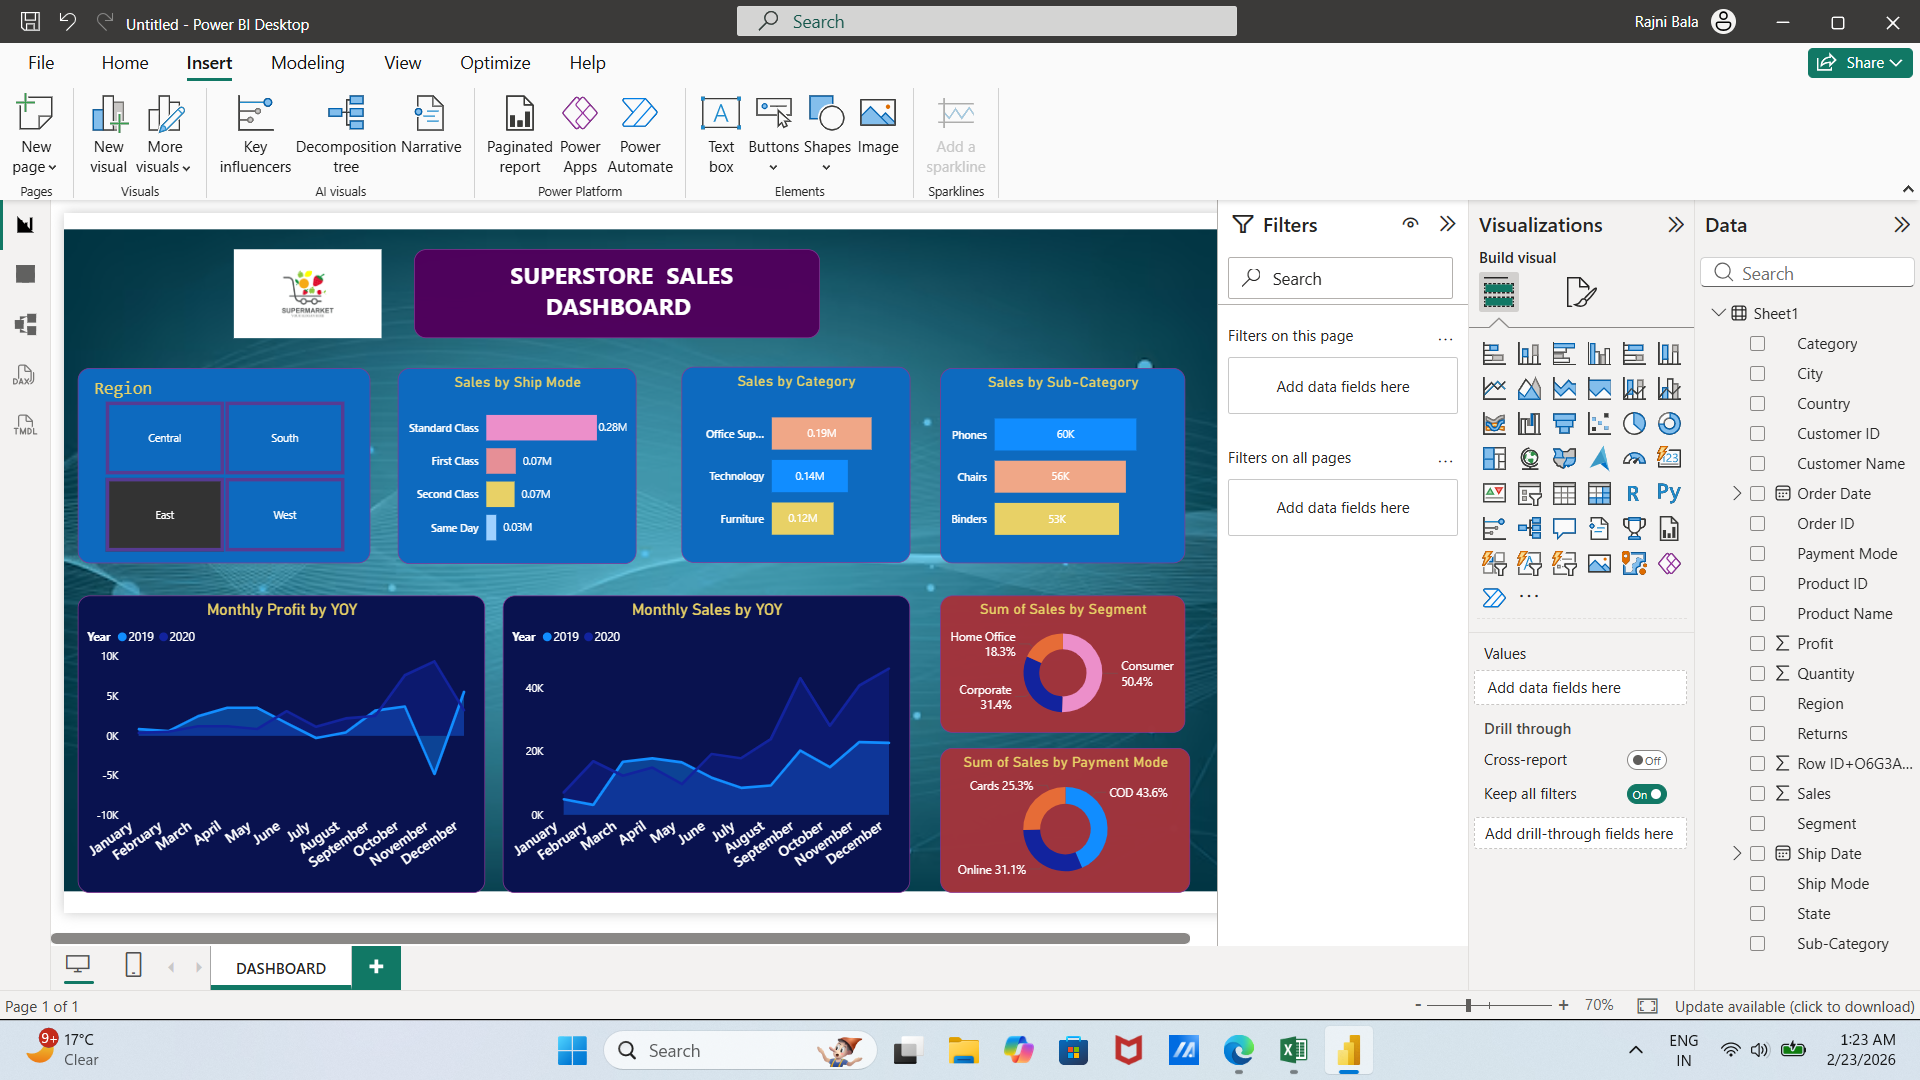

Layout of this report page (visuals, bound fields, positions):
{"tool":"powerbi","page":{"name":"DASHBOARD","canvas":[1350,800],"ordinal":0},"visuals":[{"type":"clusteredBarChart","fields":{"Category":["Sheet1.Category"],"Y":["Sum(Sheet1.Sales)"]},"box":[721.7,175,261.7,225],"z":0},{"type":"clusteredBarChart","fields":{"Category":["Sheet1.Sub-Category"],"Y":["Sum(Sheet1.Sales)"]},"box":[1023.3,178.3,280,223.3],"z":1000},{"type":"clusteredBarChart","fields":{"Category":["Sheet1.Ship Mode"],"Y":["Sum(Sheet1.Sales)"]},"box":[401.7,175,273.3,225],"z":2000},{"type":"areaChart","title":"Monthly Sales by YOY","fields":{"Y":["Sum(Sheet1.Sales)"],"Series":["Sheet1.Order Date.Variation.Date Hierarchy.Year"],"Category":["Sheet1.Order Date.Variation.Date Hierarchy.Month","Sheet1.Order Date.Variation.Date Hierarchy.Day"]},"box":[518.3,436.7,465,340],"z":3000},{"type":"areaChart","title":"Monthly Profit by YOY","fields":{"Series":["Sheet1.Order Date.Variation.Date Hierarchy.Year"],"Category":["Sheet1.Order Date.Variation.Date Hierarchy.Month","Sheet1.Order Date.Variation.Date Hierarchy.Day"],"Y":["Sum(Sheet1.Profit)"]},"box":[15.7,437.1,465.7,340],"z":4000},{"type":"donutChart","fields":{"Category":["Sheet1.Segment"],"Y":["Sum(Sheet1.Sales)"]},"box":[1023.3,436.7,280,158.3],"z":5000},{"type":"donutChart","fields":{"Category":["Sheet1.Payment Mode"],"Y":["Sum(Sheet1.Sales)"]},"box":[1023.3,611.7,285,165],"z":6000},{"type":"slicer","fields":{"Values":["Sheet1.Region"]},"box":[15.7,177.1,334.3,222.9],"z":7000},{"type":"textbox","box":[400,41.4,464.3,101.4],"z":8000},{"type":"image","box":[175.7,41.4,205.7,101.4],"z":9000}]}

Visuals, with their boxes on the page's 1350x800 design canvas (x1, y1, x2, y2). These are canvas units, not pixel positions in the 1920x1080 screenshot, which may show the page scaled, cropped or inside an application window:
clusteredBarChart - Sheet1.Category x Sum(Sheet1.Sales): crop(722, 175, 983, 400)
clusteredBarChart - Sheet1.Sub-Category x Sum(Sheet1.Sales): crop(1023, 178, 1303, 402)
clusteredBarChart - Sheet1.Ship Mode x Sum(Sheet1.Sales): crop(402, 175, 675, 400)
"Monthly Sales by YOY" areaChart: crop(518, 437, 983, 777)
"Monthly Profit by YOY" areaChart: crop(16, 437, 481, 777)
donutChart - Sheet1.Segment x Sum(Sheet1.Sales): crop(1023, 437, 1303, 595)
donutChart - Sheet1.Payment Mode x Sum(Sheet1.Sales): crop(1023, 612, 1308, 777)
slicer - Sheet1.Region: crop(16, 177, 350, 400)
textbox: crop(400, 41, 864, 143)
image: crop(176, 41, 381, 143)
